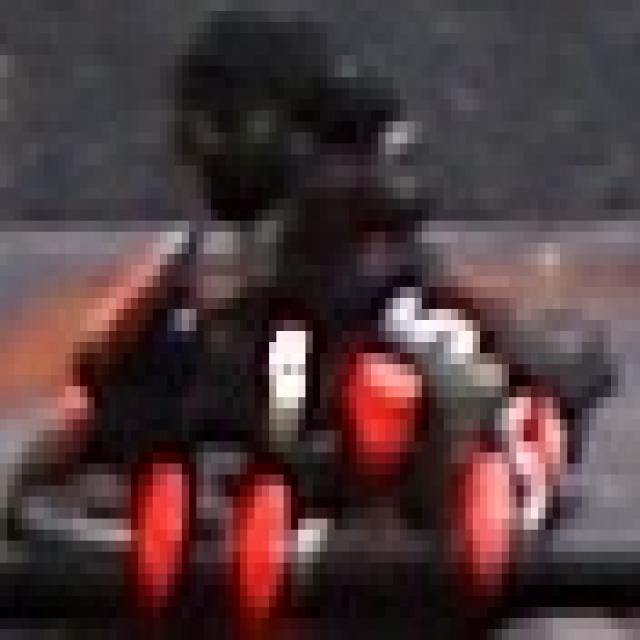R5: (131, 441, 284, 596), (451, 386, 567, 574)
